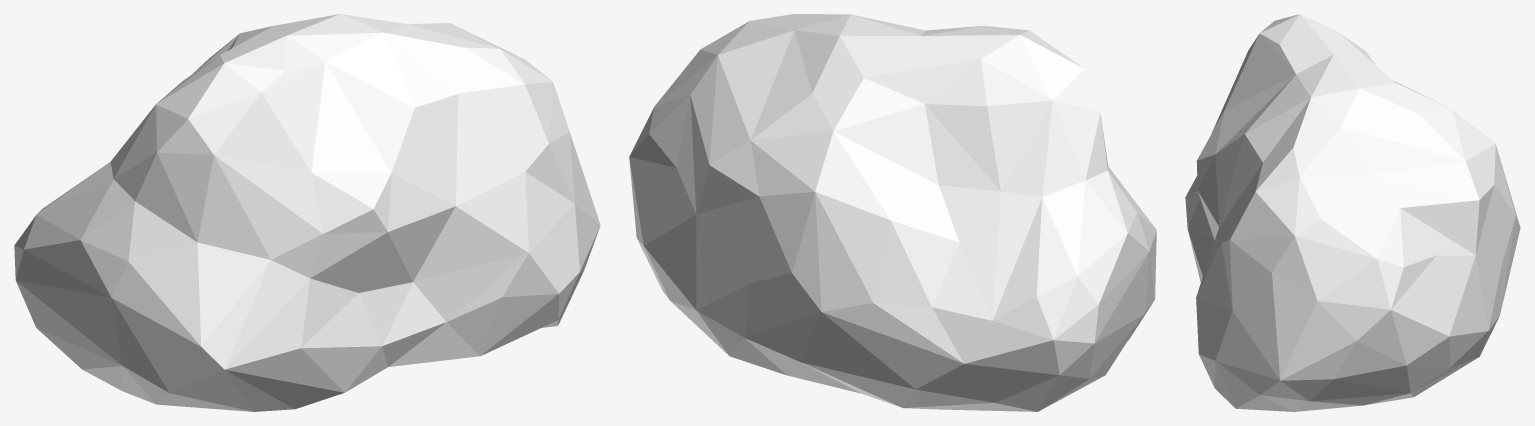
File: Cloud_04.fbx
The picture shows the model from 3 angles, left to right: view 1: azimuth 30°, elevation 25°; view 2: azimuth 150°, elevation 25°; view 3: azimuth 270°, elevation 25°; orthographic projection. The views are drawn at different scales.
Parts seen in each view (by area): view 1: Cloud_04; view 2: Cloud_04; view 3: Cloud_04.
Boxes of the visible parts, box(x1,y1,x2,y2) form: Cloud_04: box(14, 14, 600, 411); Cloud_04: box(629, 14, 1156, 411); Cloud_04: box(1185, 14, 1520, 411).
Bounding box in the file's own units: 338 × 211 × 222.
